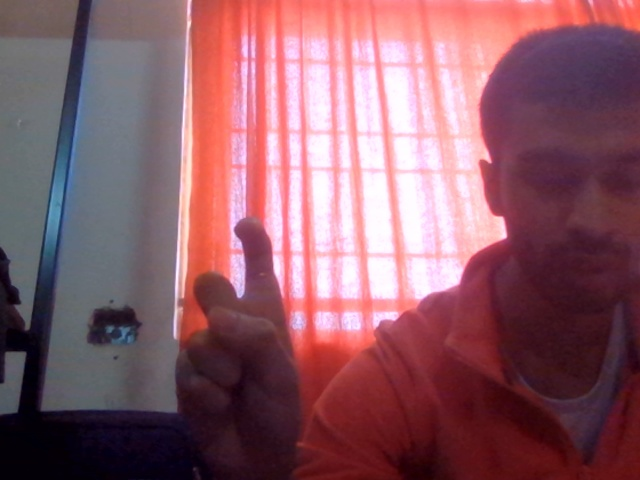X: (146, 186, 336, 480)
